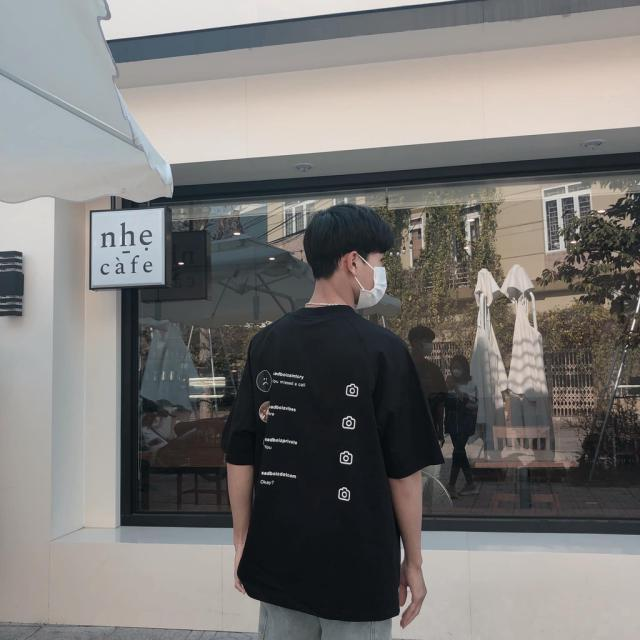Shirt: (222, 306, 447, 624)
